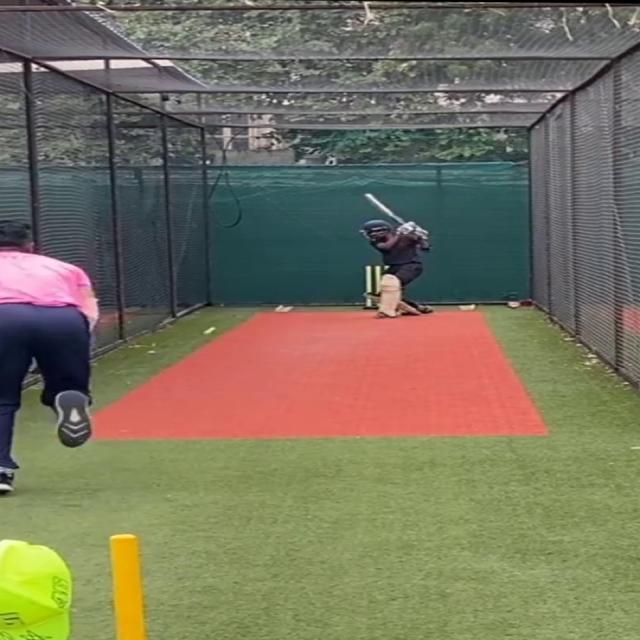stump: (359, 264, 384, 310)
